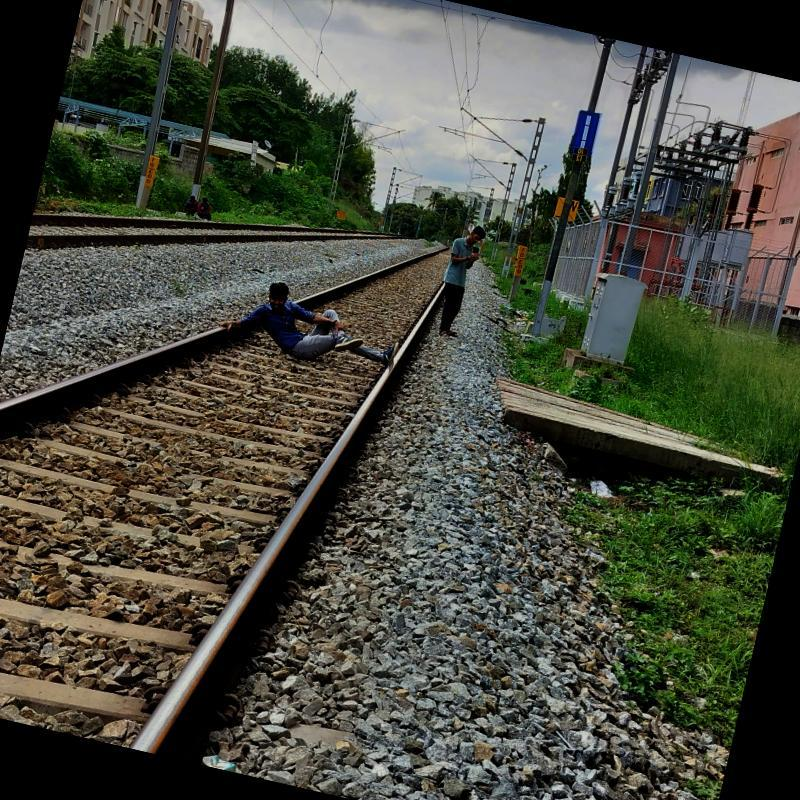sleeping: (236, 274, 414, 384)
